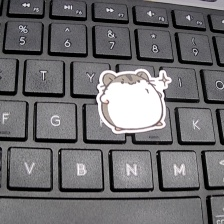mouse: (94, 65, 174, 136)
